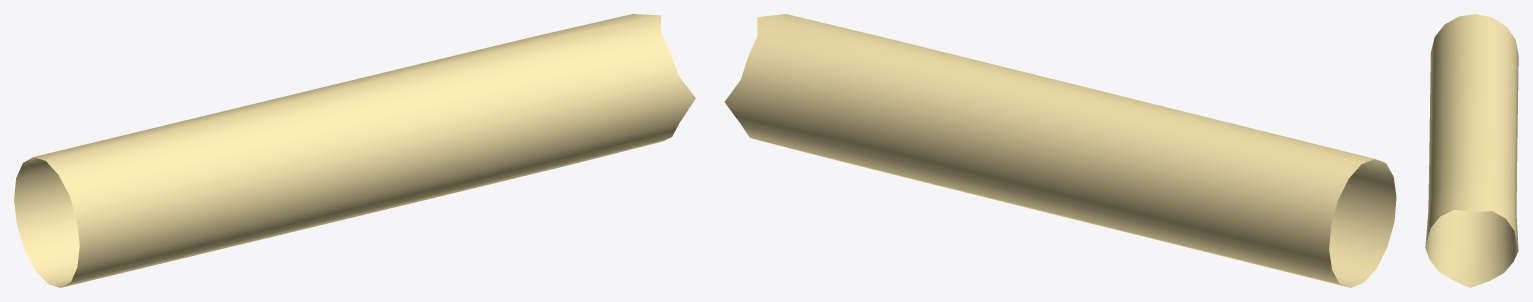
Rendered from Key 3.fbx.
3 views of the same model, side by side, from view 1: azimuth 30°, elevation 25°; view 2: azimuth 150°, elevation 25°; view 3: azimuth 270°, elevation 25° (orthographic). The views are drawn at different scales.
Parts seen in each view (by area): view 1: Cylinder; view 2: Cylinder; view 3: Cylinder.
Boxes of the visible parts, x1,y1,x2,y2 form: Cylinder: (14,14,695,287); Cylinder: (724,14,1396,287); Cylinder: (1425,14,1518,287).
Size of the model in its own units: 40.5 by 7.66 by 8.13.
